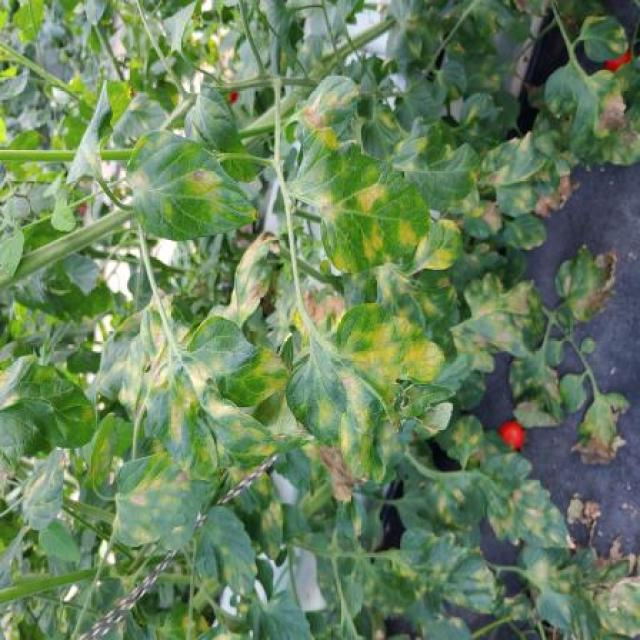Leaf Mold: (284, 302, 457, 484), (149, 316, 314, 488), (293, 126, 433, 276), (126, 130, 260, 240), (112, 452, 221, 548), (543, 58, 640, 165), (391, 526, 506, 615), (475, 450, 576, 550), (448, 272, 546, 374), (196, 506, 258, 598), (232, 472, 284, 562), (17, 450, 66, 531)
